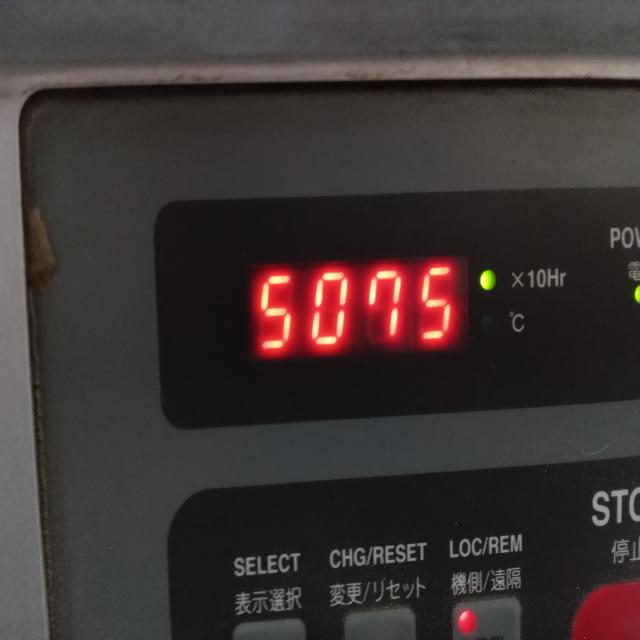display: (241, 248, 467, 366)
frame: (246, 258, 461, 356), (526, 266, 547, 293)
gauge: (0, 42, 640, 640)
